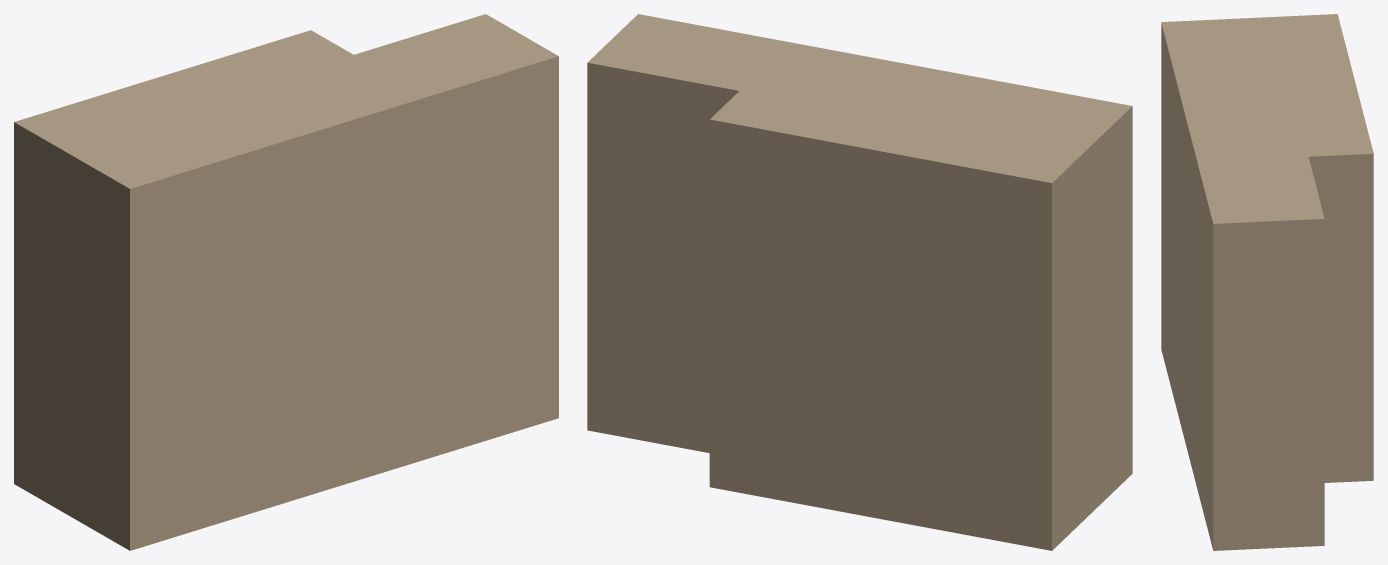
The model's file is bld_101572376.dae.
3 renders of one model, left to right at view 1: azimuth 30°, elevation 25°; view 2: azimuth 150°, elevation 25°; view 3: azimuth 270°, elevation 25°, orthographic. The views are drawn at different scales.
Parts seen in each view (by area): view 1: bld_101572376; view 2: bld_101572376; view 3: bld_101572376.
Part boxes in pixels (left/top/right/bottom): bld_101572376: left=14, top=14, right=558, bottom=550; bld_101572376: left=587, top=14, right=1132, bottom=550; bld_101572376: left=1161, top=14, right=1373, bottom=550.
Size of the model in its own units: 11.01 by 4.71 by 8.
